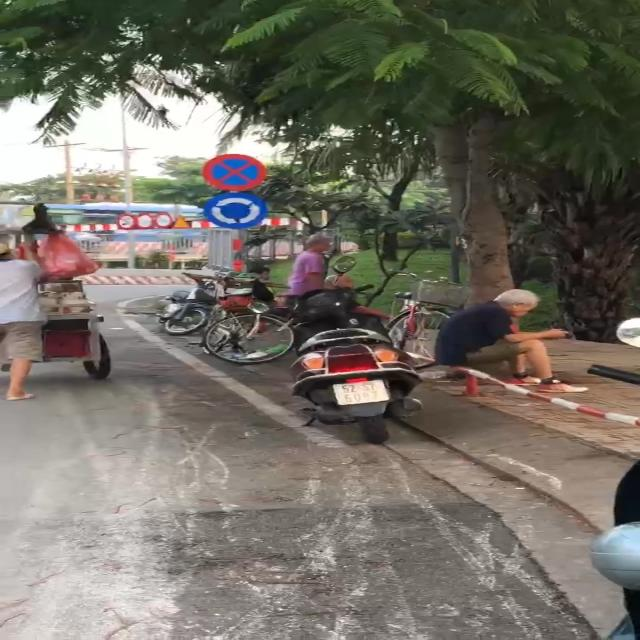Bien bao cam dung xe va do xe: (199, 152, 270, 190)
Bien bao noi giao nhau chay theo vong xuyen: (200, 192, 272, 232)
